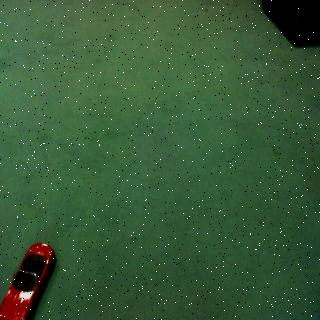car: (1, 237, 63, 320)
